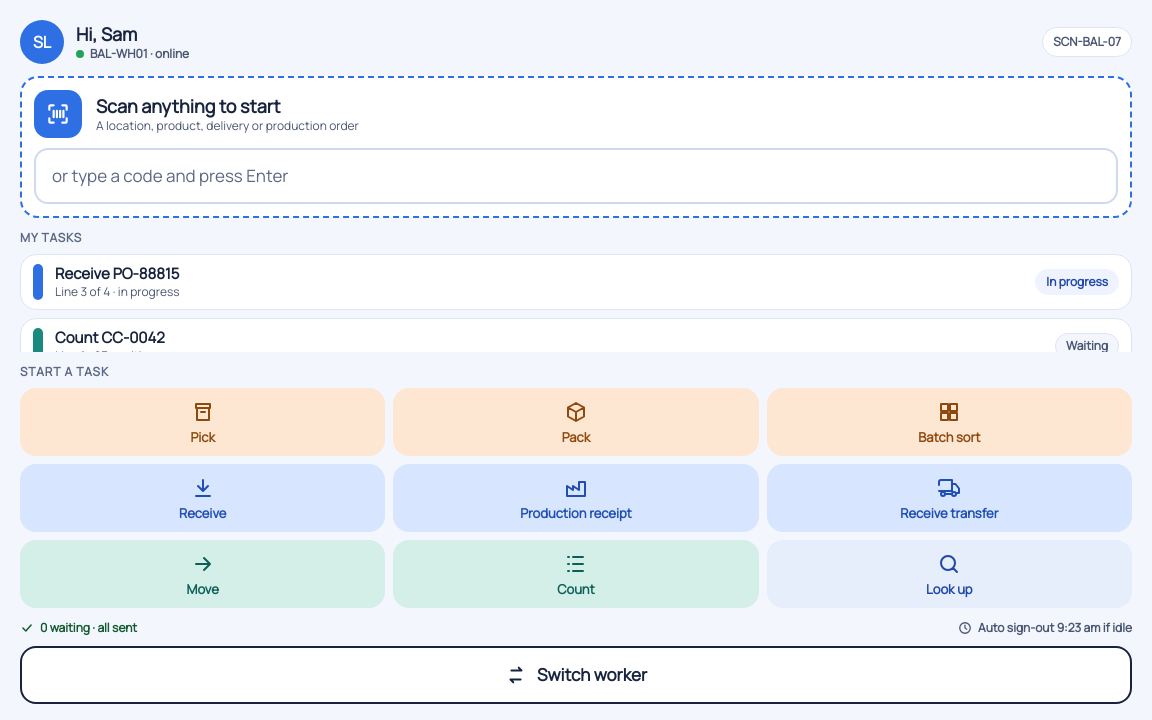
Test: Menu › keeps the operator signed in when they say not now
The width and height of the screenshot is (1152, 720).
What coordinates should you click on to do the following:
click the button "Switch worker"
I would click on:
 (576, 675)
Its box is 20,646 -> 1132,704.
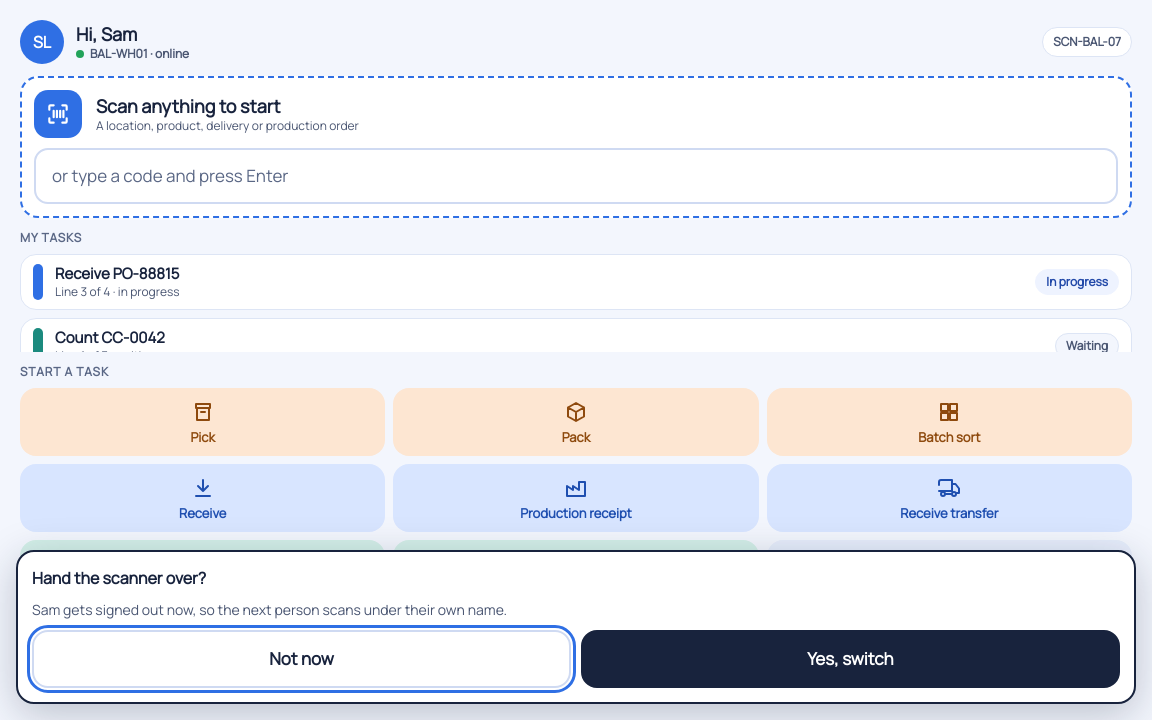
What coordinates should you click on to do the following:
click the button "Not now"
I would click on:
 (302, 659)
Its box is 32,630 -> 571,688.
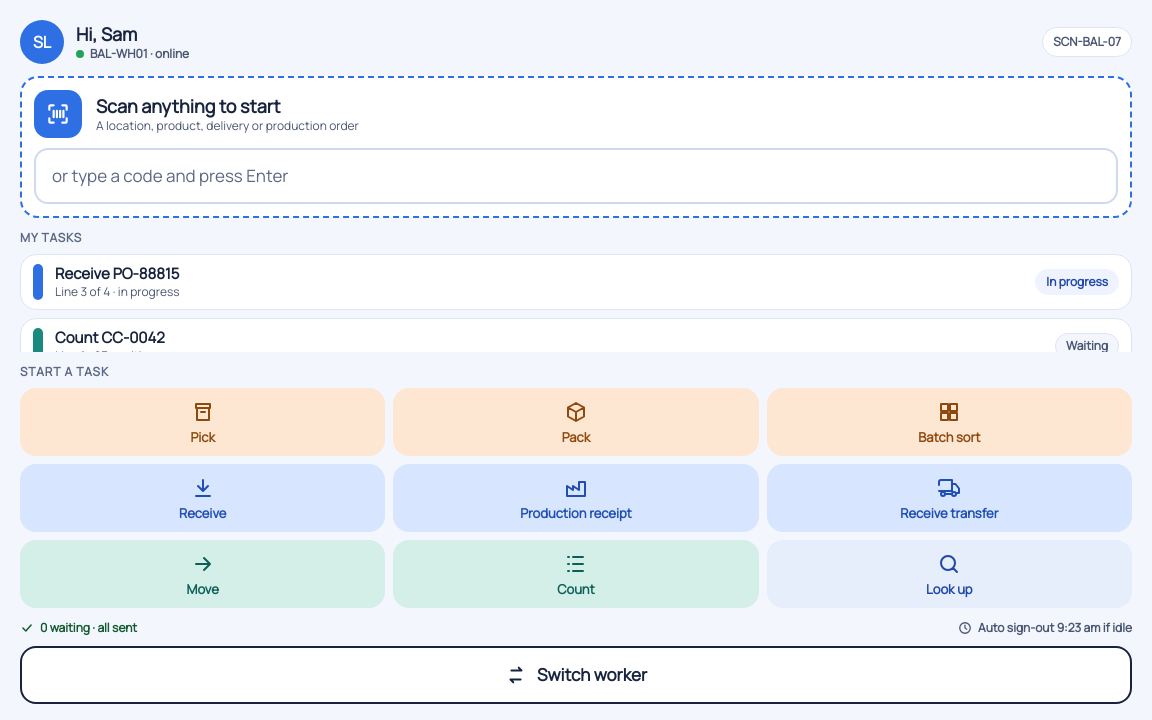
Expected: the text "Hi, Sam" is shown, 76,22 -> 137,46
Now the dialog is gone
Now the button "Switch worker" is shown, box 20,646 -> 1132,704
